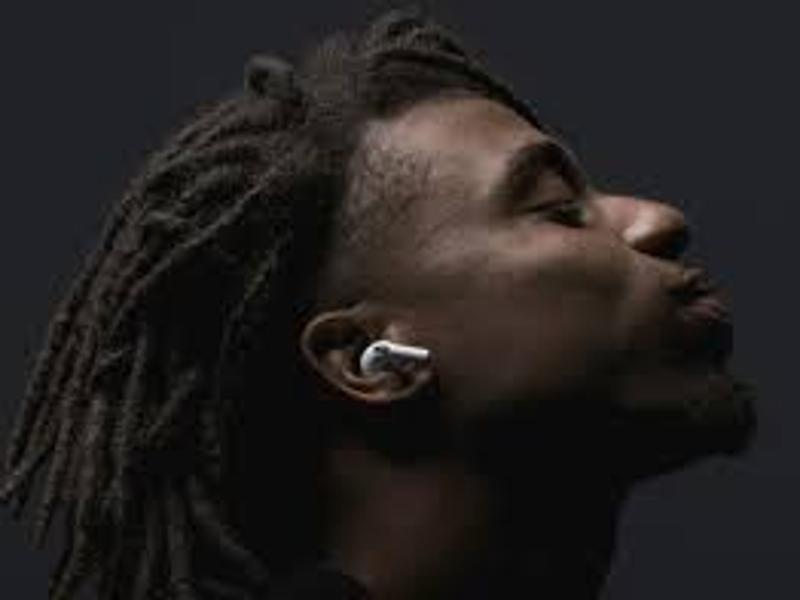headphone: (358, 339, 428, 374)
